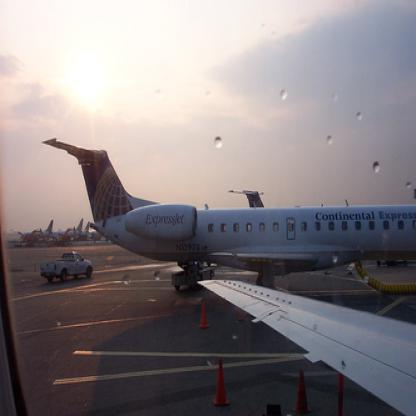aeroplane: (39, 135, 415, 288), (198, 277, 415, 415), (20, 220, 54, 242), (227, 190, 266, 209), (52, 221, 86, 241)
car: (38, 249, 95, 287)
